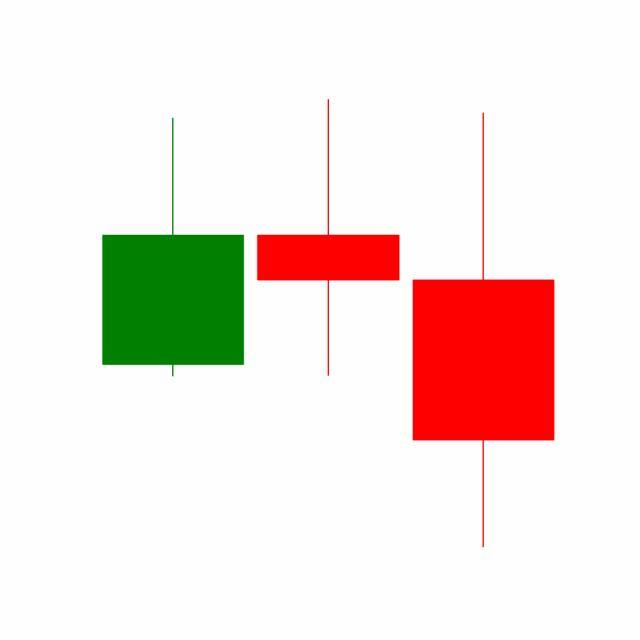Spinning Top: (250, 96, 407, 380)
